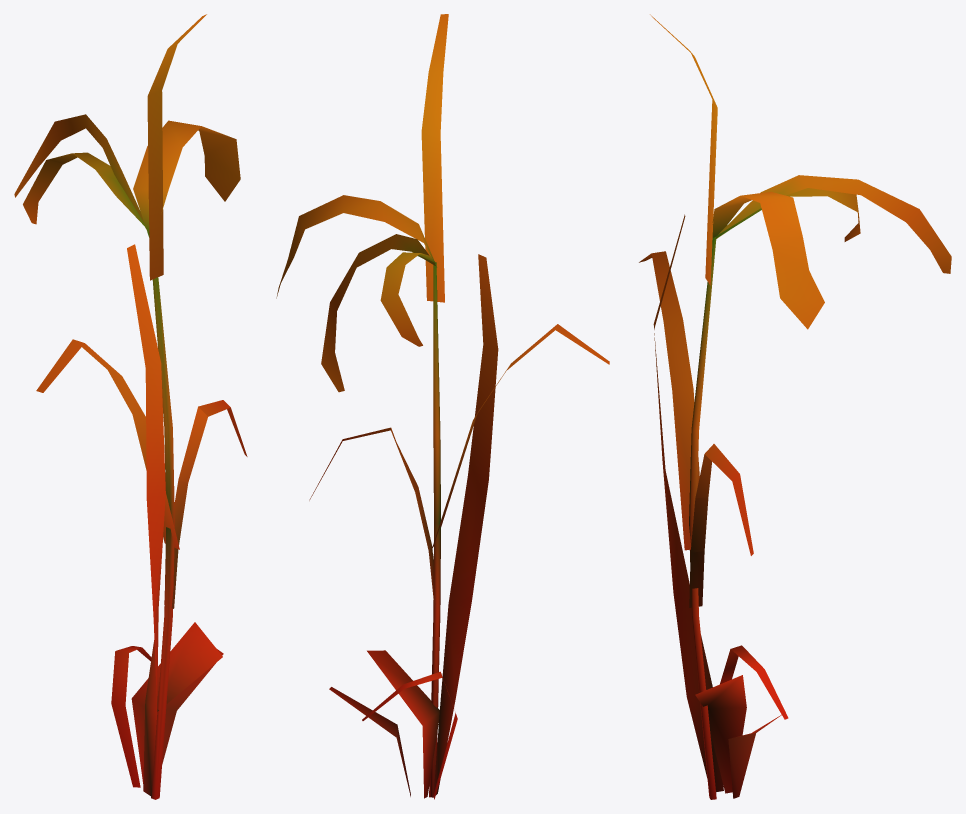
File: SM_RicePlants_7.fbx
The picture shows the model from 3 angles, left to right: view 1: azimuth 30°, elevation 25°; view 2: azimuth 150°, elevation 25°; view 3: azimuth 270°, elevation 25°; orthographic projection. The views are drawn at different scales.
Parts seen in each view (by area): view 1: SM_RicePlants_7; view 2: SM_RicePlants_7; view 3: SM_RicePlants_7.
Part boxes in pixels (box(x1,y1,x2,y2)): SM_RicePlants_7: box(14, 14, 247, 799); SM_RicePlants_7: box(276, 14, 609, 799); SM_RicePlants_7: box(639, 14, 951, 799).
Bounding box in the file's own units: 0.6077 × 1.71 × 0.613.
